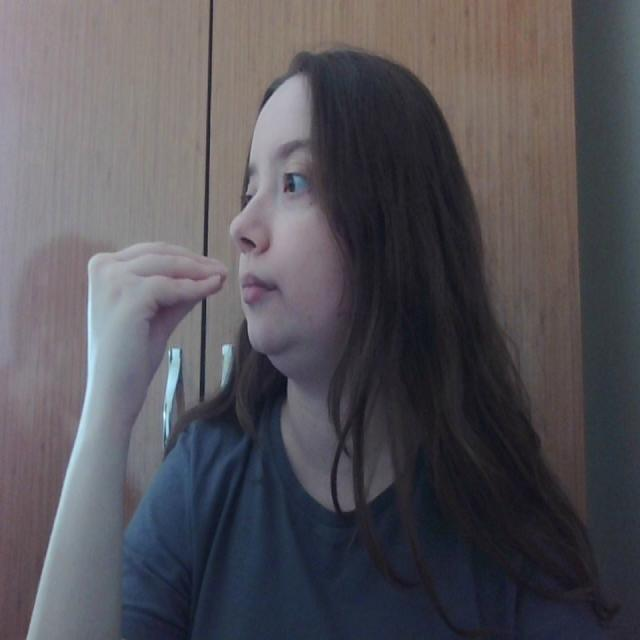Yemek: (85, 234, 278, 326)
